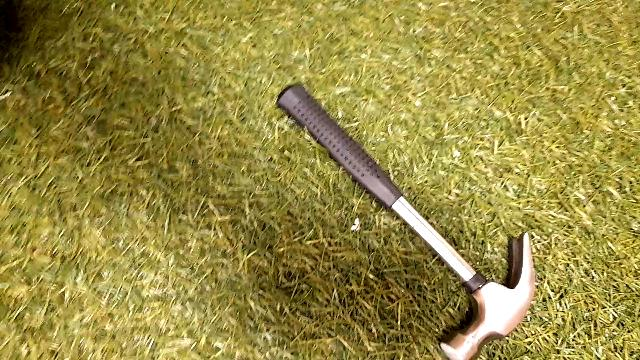hammer: (261, 74, 544, 360)
